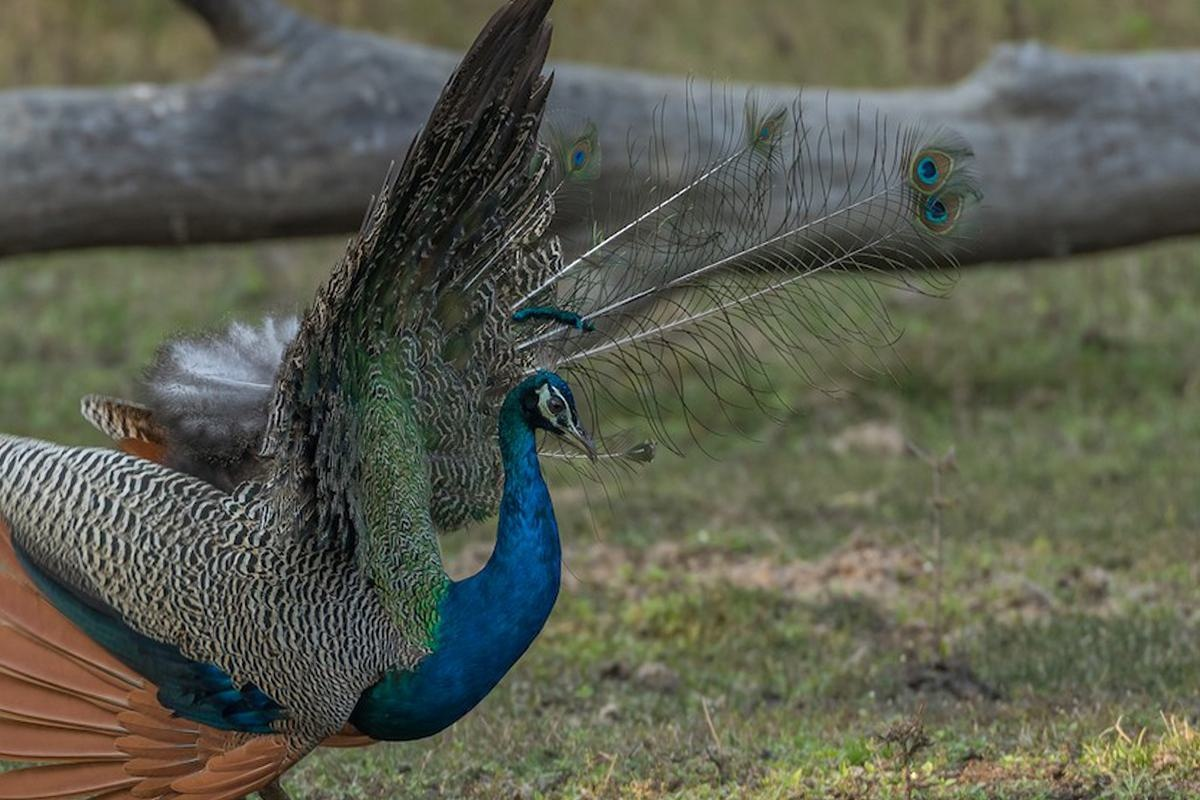peacock: (1, 210, 759, 753)
